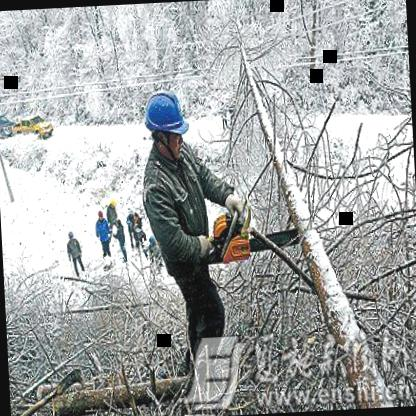helmet: (140, 86, 191, 160)
